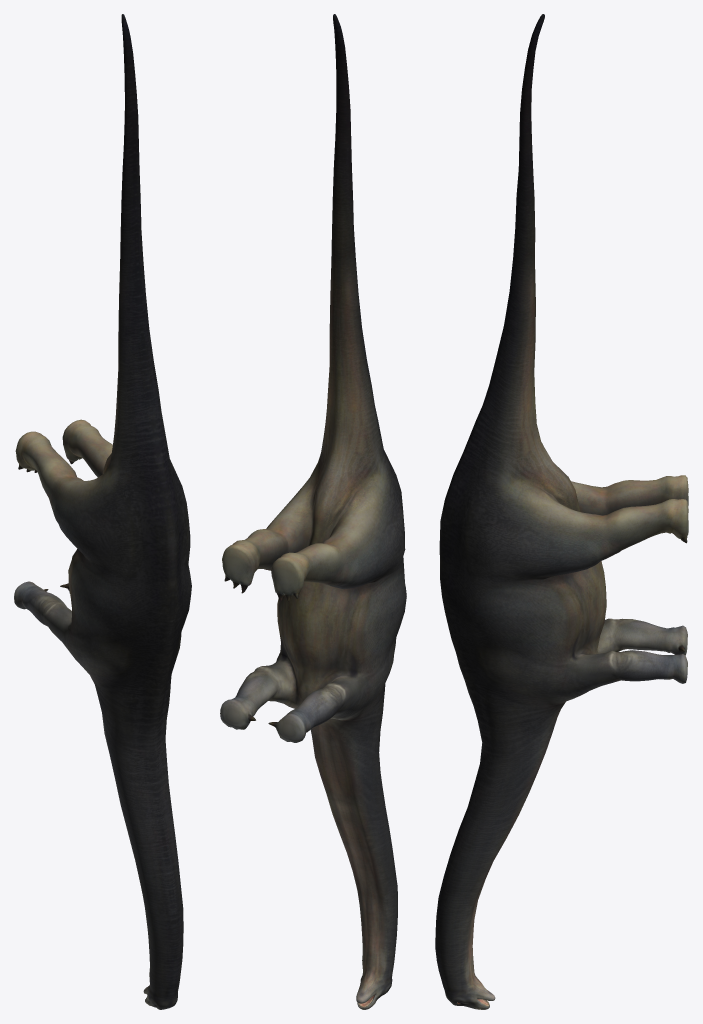
The model's file is apatosaurus01.obj.
3 renders of one model, left to right at view 1: azimuth 30°, elevation 25°; view 2: azimuth 150°, elevation 25°; view 3: azimuth 270°, elevation 25°, orthographic. The views are drawn at different scales.
Parts seen in each view (by area): view 1: Apatosaurus_Apatosaurus_LowPoly; view 2: Apatosaurus_Apatosaurus_LowPoly; view 3: Apatosaurus_Apatosaurus_LowPoly.
Boxes of the visible parts, x1,y1,x2,y2 form: Apatosaurus_Apatosaurus_LowPoly: [14, 14, 191, 1009]; Apatosaurus_Apatosaurus_LowPoly: [220, 14, 406, 1009]; Apatosaurus_Apatosaurus_LowPoly: [435, 14, 688, 1009].
Size of the model in its own units: 3.71 by 35.54 by 8.2.
1 material, 1 textured.
